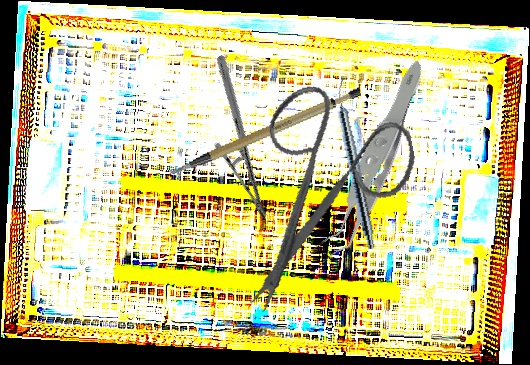Handpiece: (329, 77, 381, 252)
Iris Scissors: (212, 68, 439, 319)
Needle Holder: (159, 53, 325, 221)
Scalpel Handle: (159, 85, 369, 176)
Tissue Forceps: (256, 58, 483, 267)
